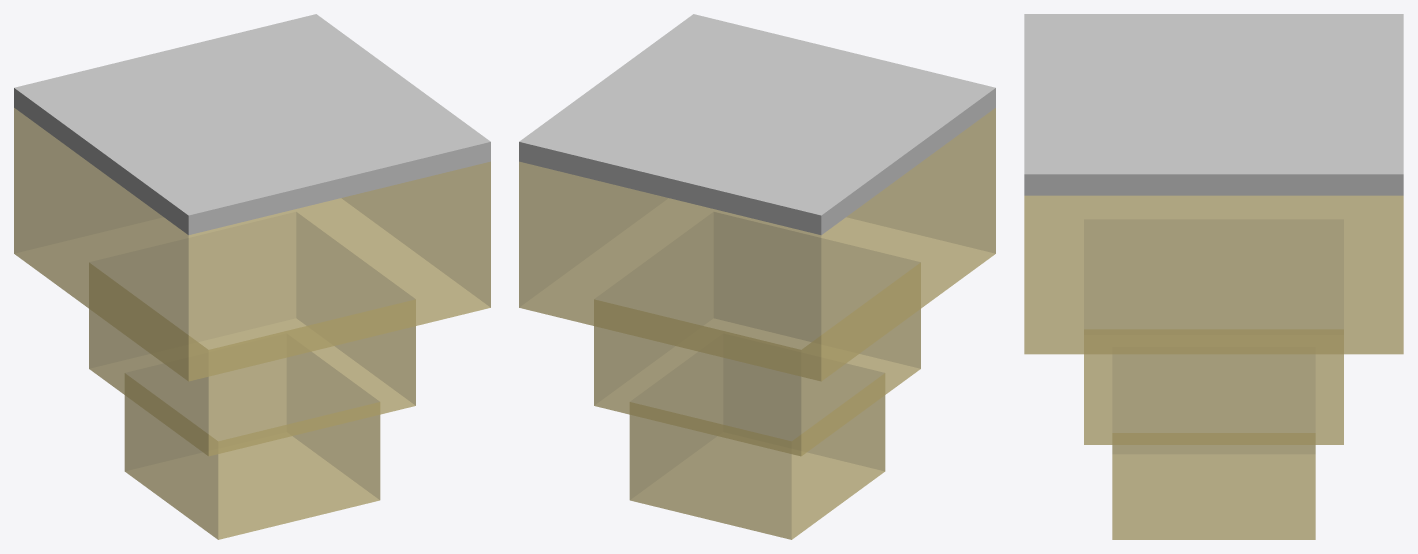
The model's file is chandelier.fbx.
3 renders of one model, left to right at view 1: azimuth 30°, elevation 25°; view 2: azimuth 150°, elevation 25°; view 3: azimuth 270°, elevation 25°, orthographic. The views are drawn at different scales.
Visible parts, largest first — view 1: chandelier; view 2: chandelier; view 3: chandelier.
Boxes of the visible parts, box(x1,y1,x2,y2) form: chandelier: box(14, 14, 490, 539); chandelier: box(519, 14, 995, 539); chandelier: box(1024, 14, 1403, 539).
Bounding box in the file's own units: 120 × 141 × 120.
